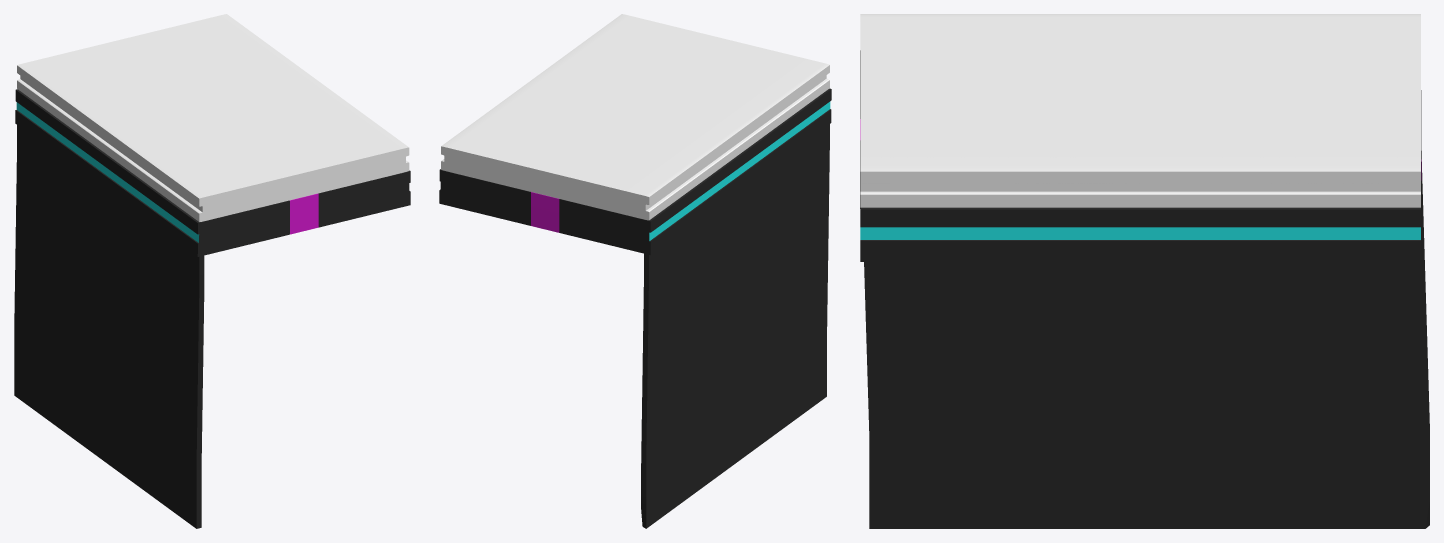
File: low poly bench 2.fbx
3 renders of one model, left to right at view 1: azimuth 30°, elevation 25°; view 2: azimuth 150°, elevation 25°; view 3: azimuth 270°, elevation 25°, orthographic. The views are drawn at different scales.
Parts seen in each view (by area): view 1: Box033; view 2: Box033; view 3: Box033.
Boxes of the visible parts, x1,y1,x2,y2 form: Box033: (14, 14, 410, 528); Box033: (439, 14, 831, 528); Box033: (860, 14, 1429, 528).
Bounding box in the file's own units: 19.63 × 29.32 × 29.6.
